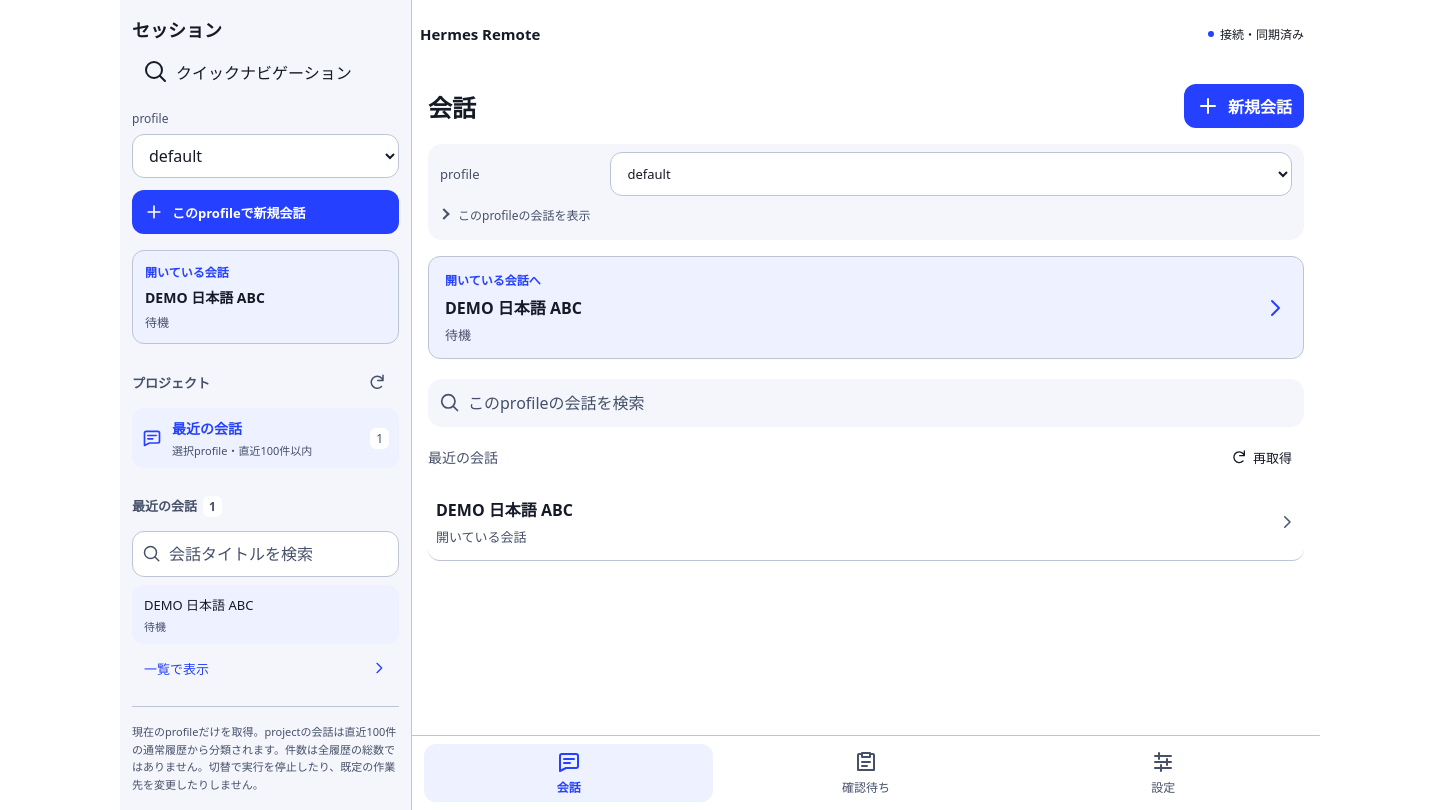
it: mobile shell navigation and recovery guidance › keeps the selected profile before search and scopes a trimmed case-insensitive search to the fetched list
In the search field labelled "会話を検索": (882, 403) [468,379,1296,427], type " abc "
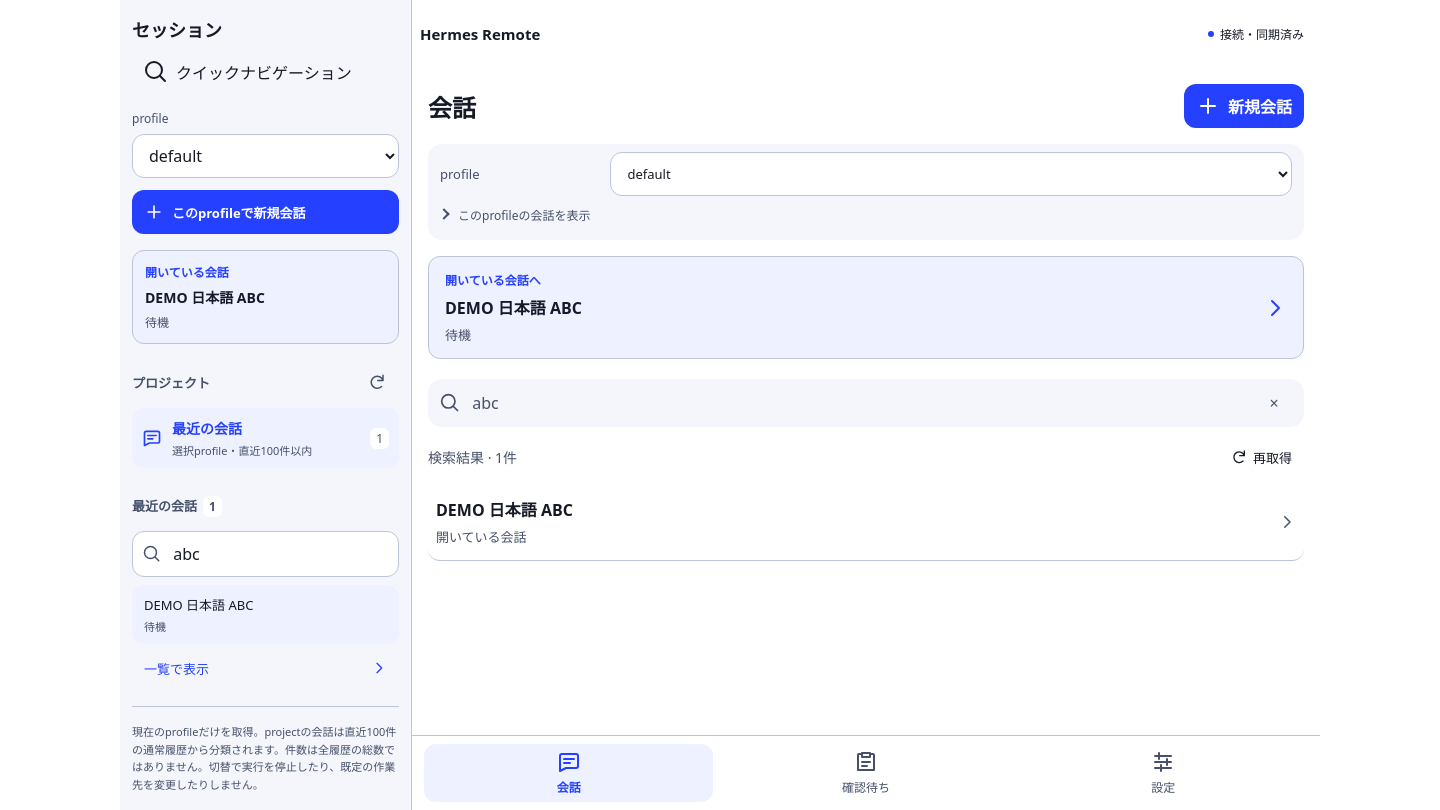
Expected: the button "DEMO 日本語 ABC 開いている会話" is shown, [428,483,1304,561]
Replace the text in the search field named "会話を検索" with "DEMO missing": (856, 403) [468,379,1244,427]
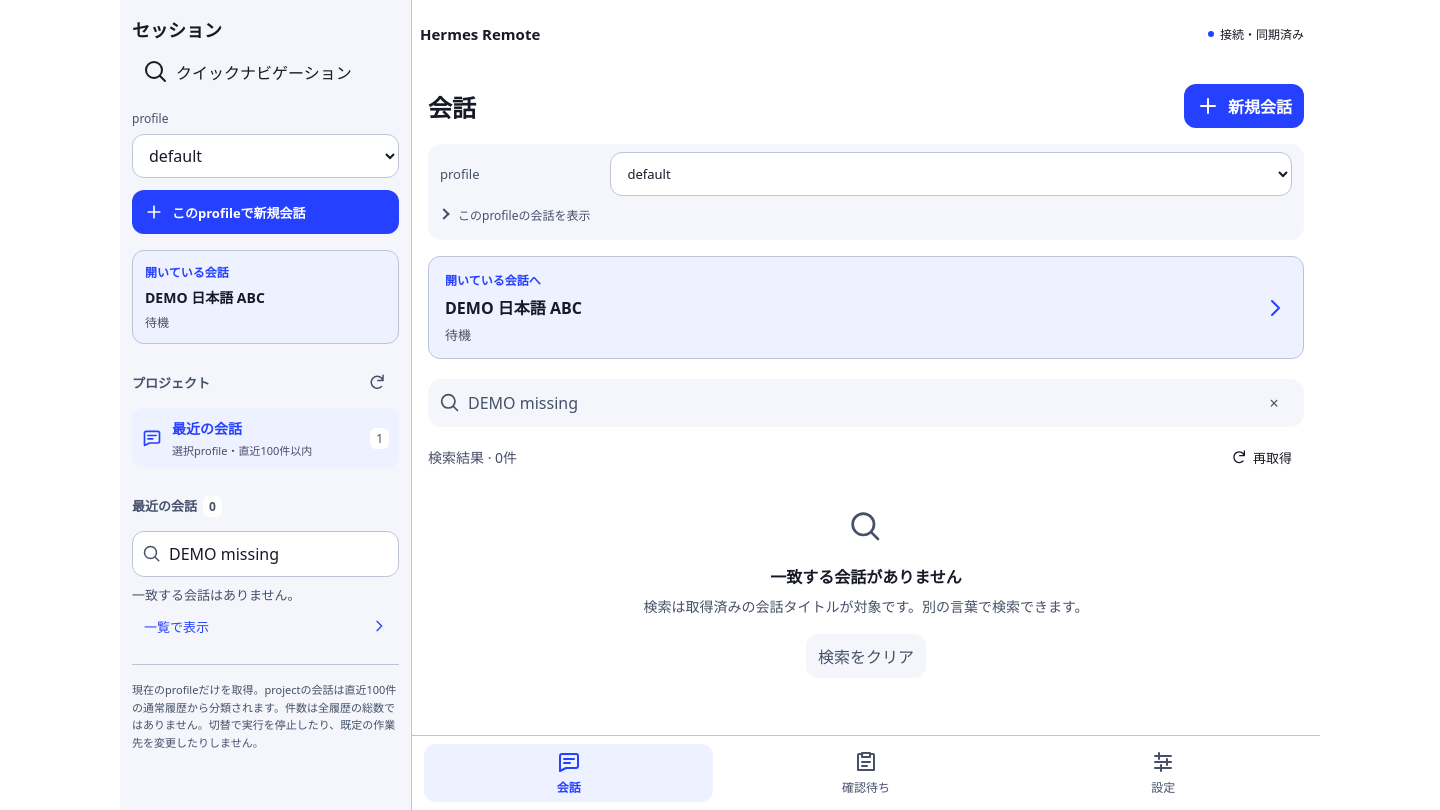
Now the heading "一致する会話がありません" is shown, box [770,566,962,588]
Click the button named "検索をクリア": (1274, 403) [1252,381,1296,425]
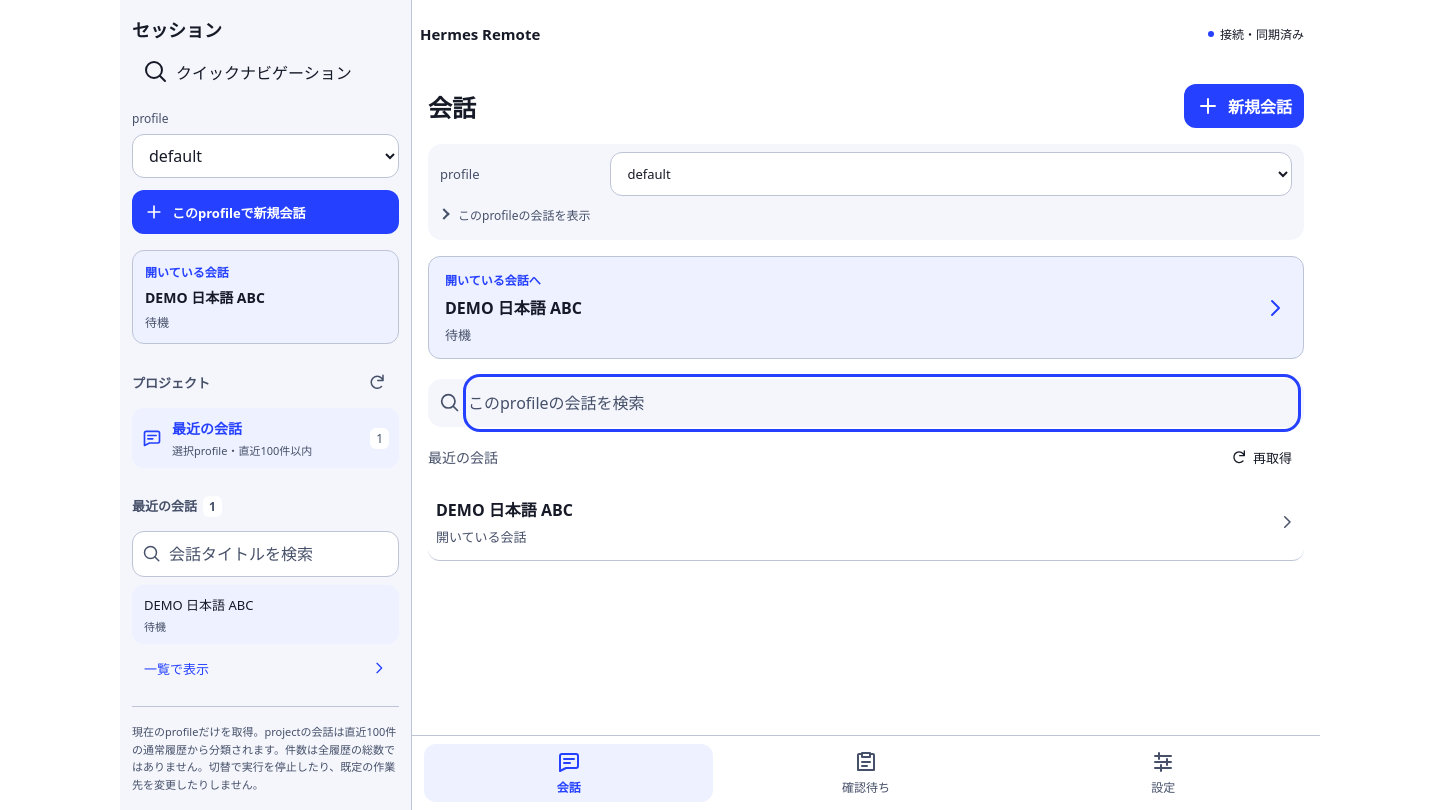
Now the search field labelled "会話を検索" is empty, box [468,379,1296,427]
